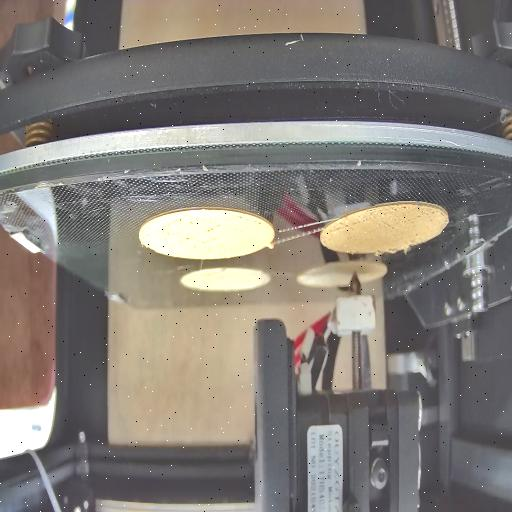under_extrusion: (156, 216, 222, 252), (382, 206, 434, 238), (330, 208, 370, 234), (235, 214, 266, 233)
